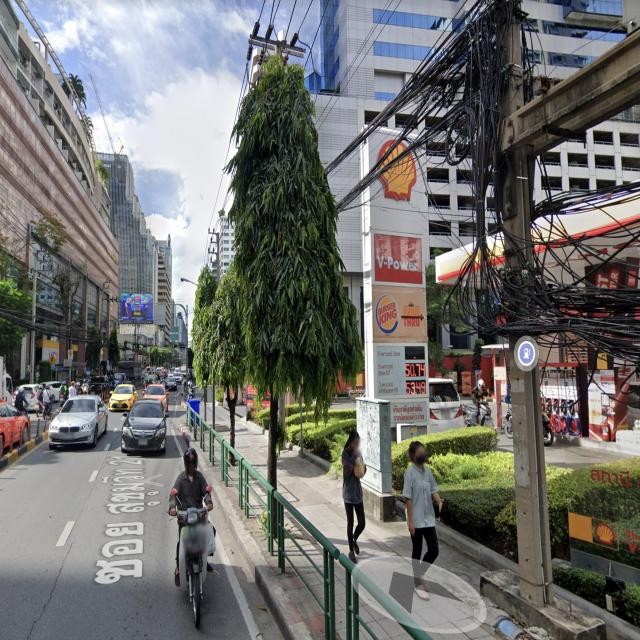tree: (223, 55, 357, 549), (192, 279, 254, 477), (0, 268, 35, 348), (82, 328, 105, 388), (109, 326, 122, 370)
